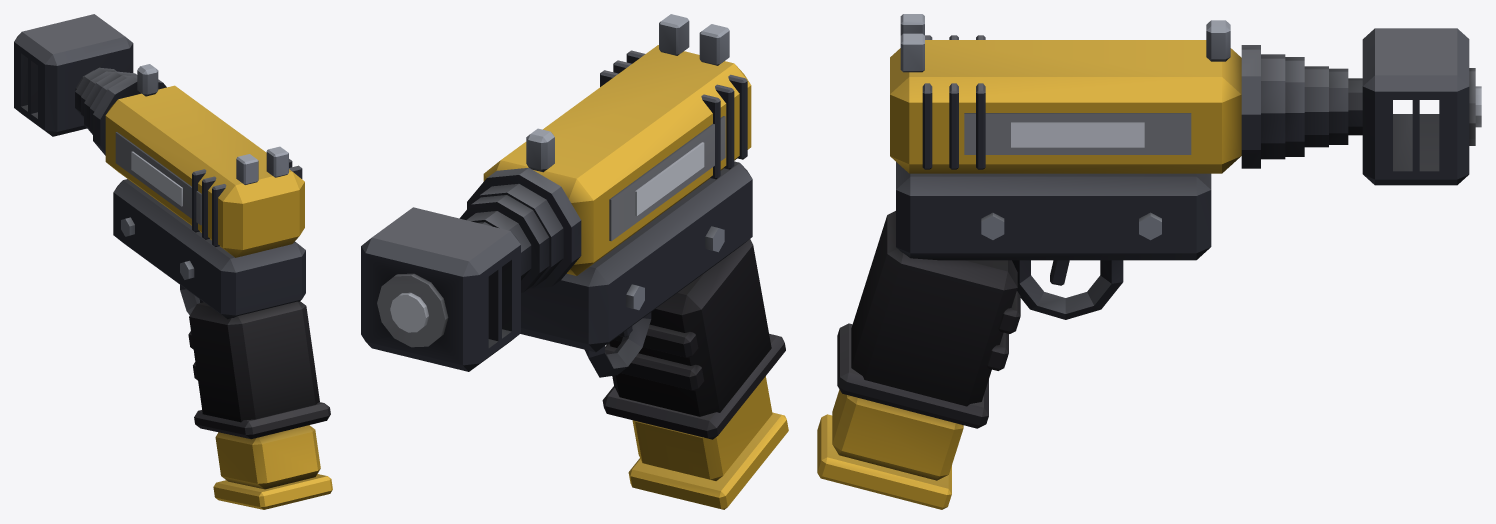
File: Starter.fbx
The picture shows the model from 3 angles, left to right: view 1: azimuth 30°, elevation 25°; view 2: azimuth 150°, elevation 25°; view 3: azimuth 270°, elevation 25°; orthographic projection. The views are drawn at different scales.
Parts seen in each view (by area): view 1: Body, Halo_Glow, Accent_Glow; view 2: Body, Halo_Glow, Accent_Glow; view 3: Body, Halo_Glow, Accent_Glow.
Part boxes in pixels (x1,y1,x2,y2): Body: (14,14,332,509); Halo_Glow: (115,132,201,225); Accent_Glow: (131,151,182,206); Body: (361,14,788,509); Halo_Glow: (377,116,725,347); Accent_Glow: (390,142,704,332); Body: (817,14,1469,509); Halo_Glow: (964,68,1475,154); Accent_Glow: (1011,86,1481,147).
Bounding box in the file's own units: 0.61 × 2.12 × 2.74.
